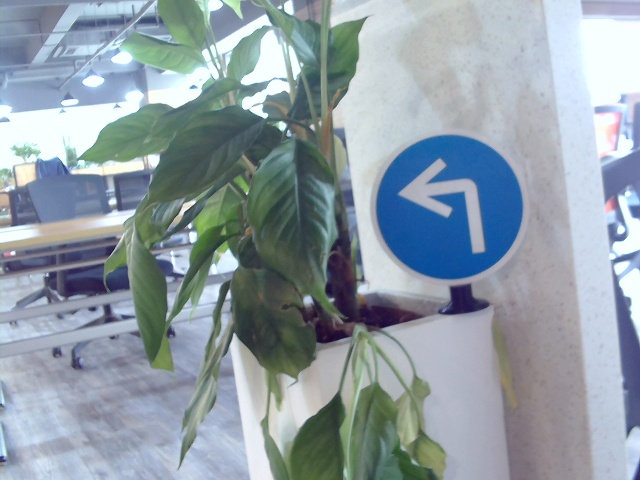turn_left: (401, 159, 491, 256)
